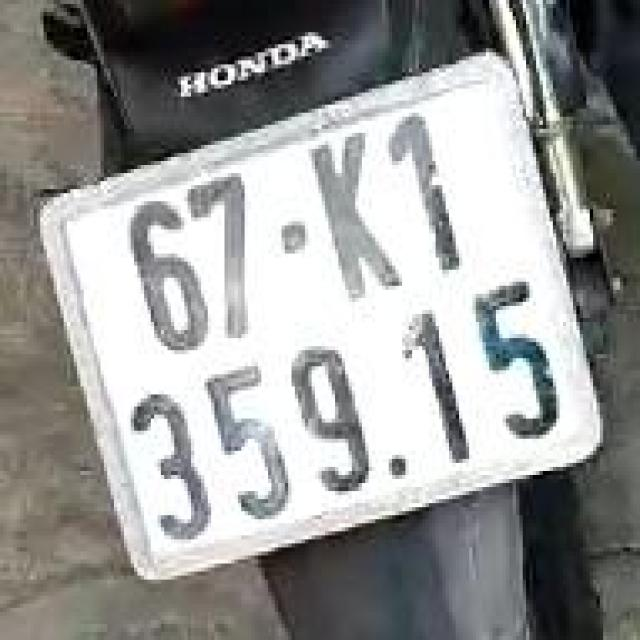1: (384, 293, 486, 476), (375, 102, 474, 284)
3: (119, 377, 223, 553)
5: (459, 260, 568, 446), (197, 349, 303, 531)
6: (115, 179, 220, 368)
7: (180, 165, 264, 349)
9: (276, 331, 381, 501)
K: (298, 123, 418, 322)
